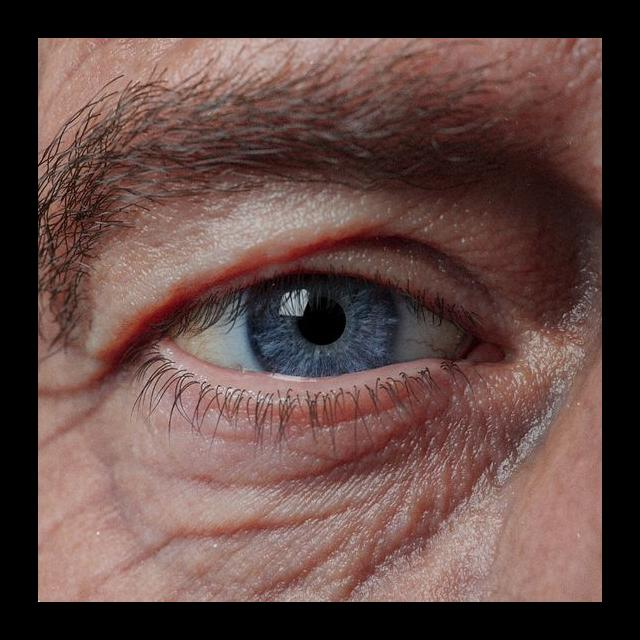eye: (174, 275, 473, 380)
iris: (246, 277, 399, 377)
